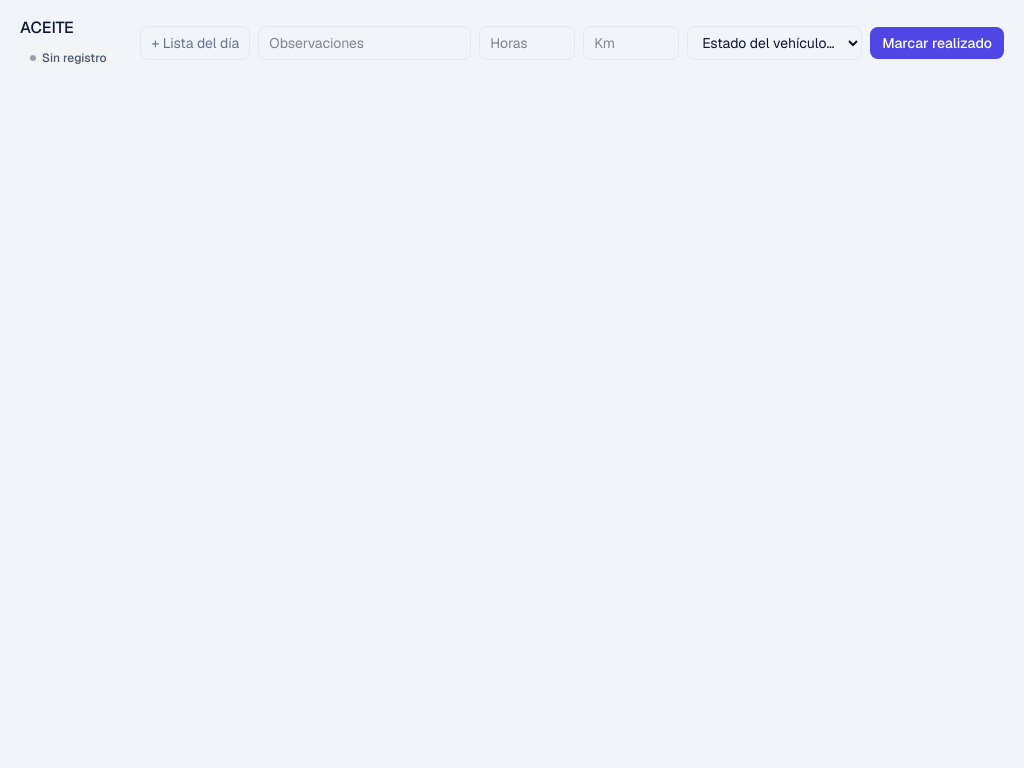
Test: TareaChecklistItem › marca la tarea como ya añadida y avisa de que se ha guardado
Click the button "+ Lista del día".
click(195, 43)  # box [140, 26, 250, 60]
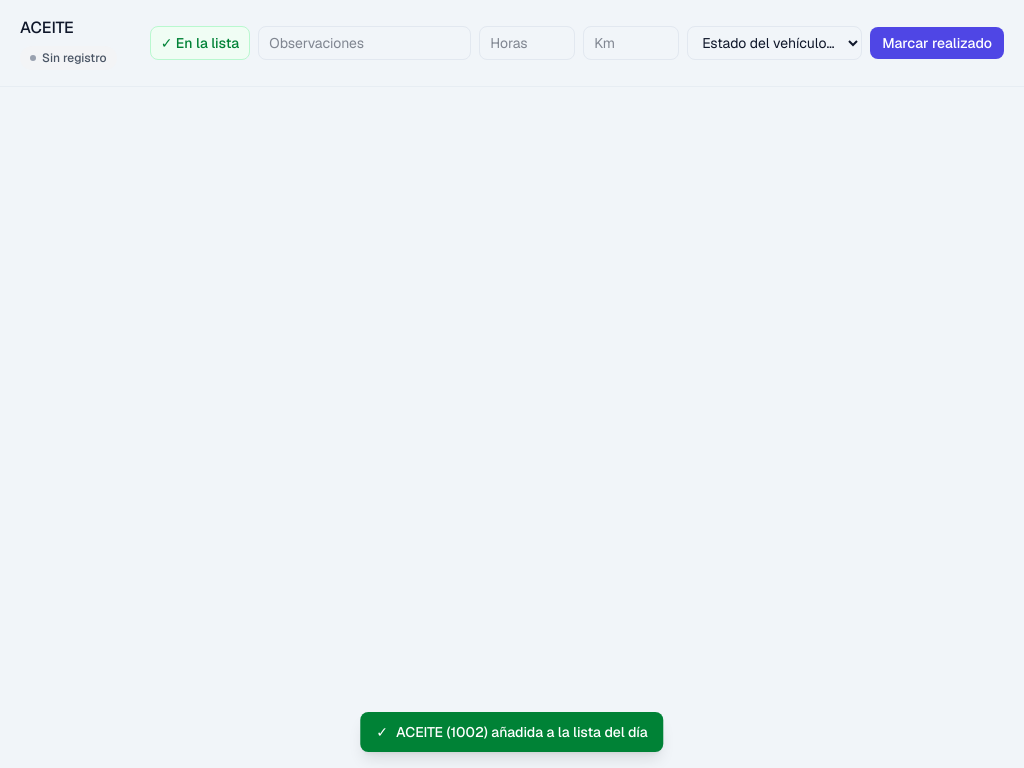
expect the button "✓ En la lista" is disabled: met, box [150, 26, 250, 60]
expect the message shows "ACEITE (1002) añadida a la lista del día": met, box [396, 723, 648, 741]
